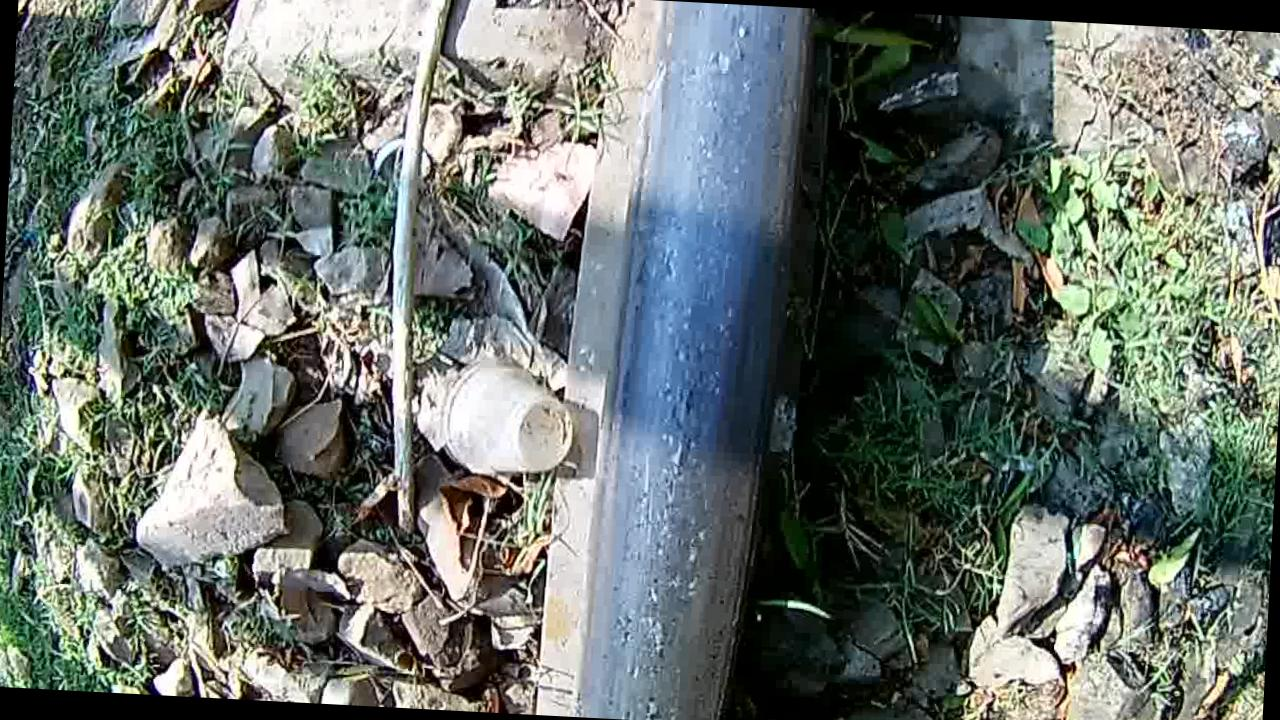clip_missing: (585, 0, 811, 720)
